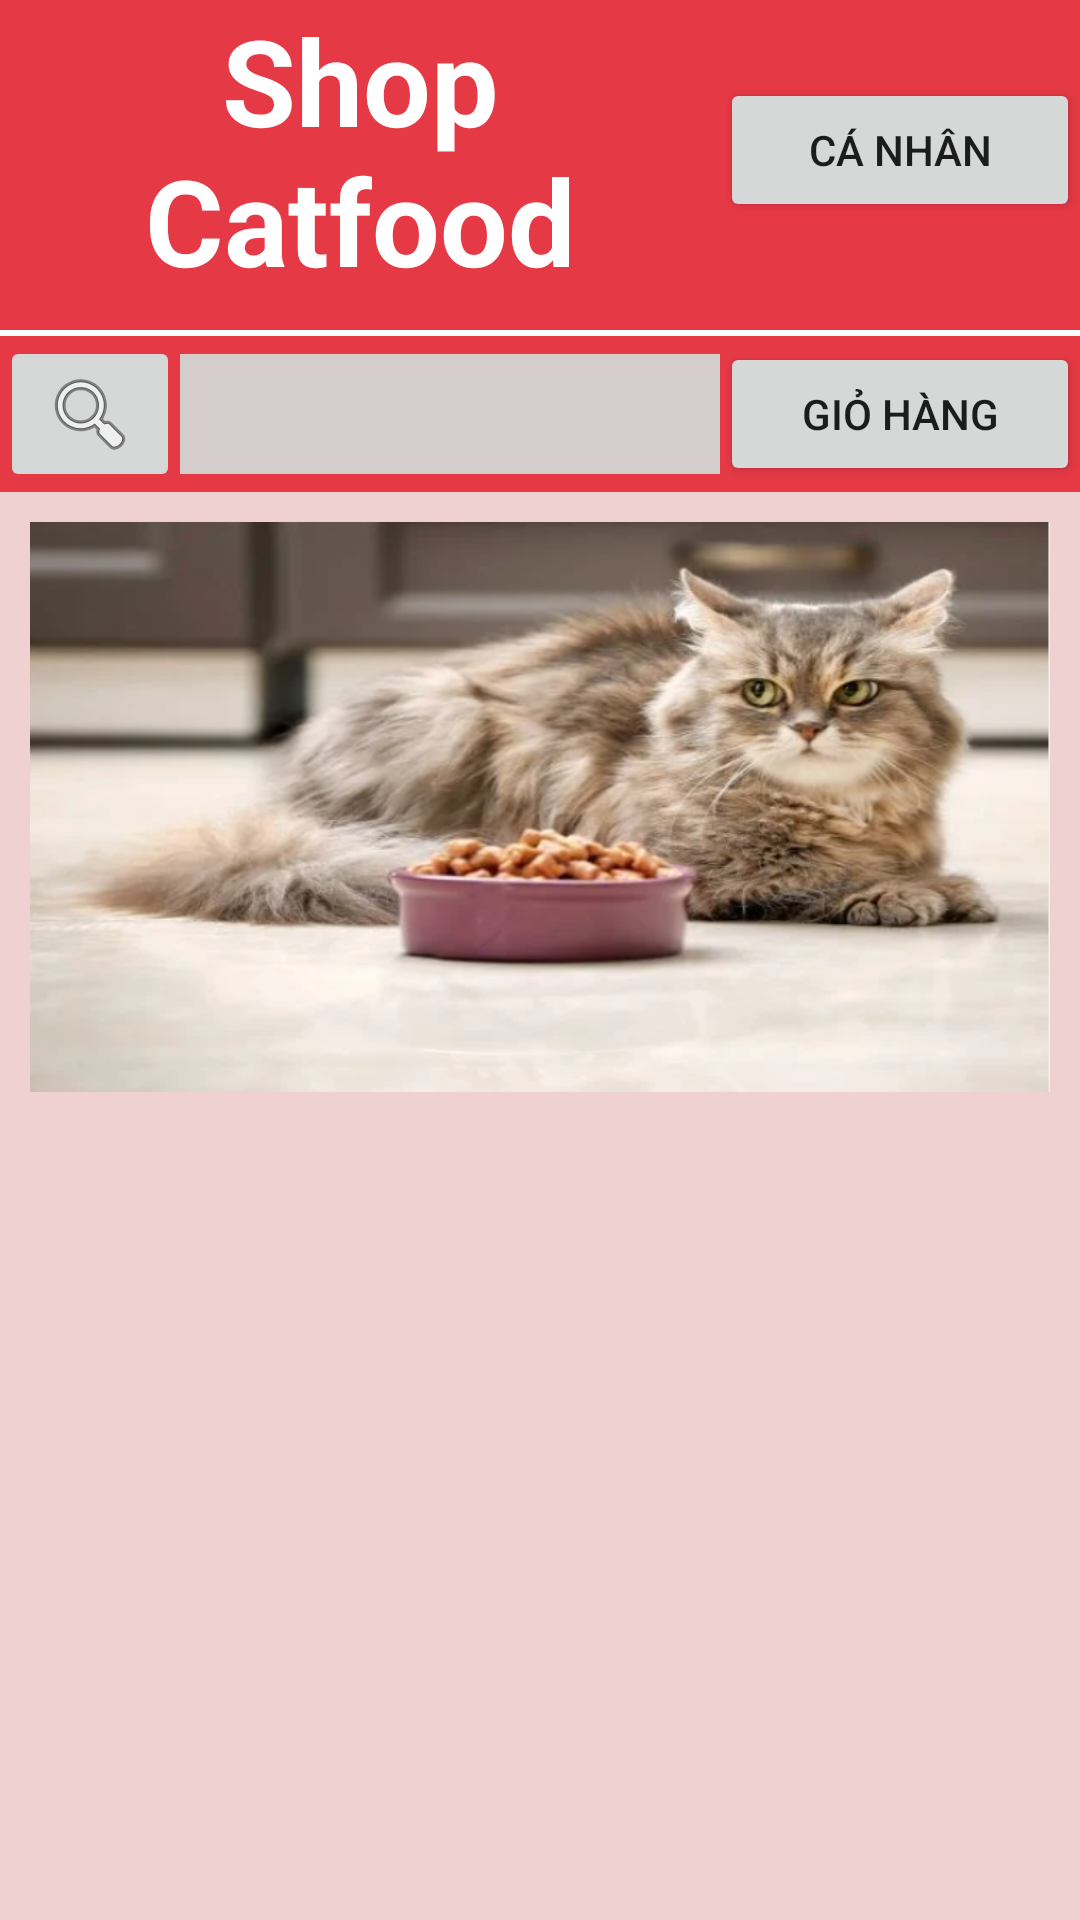

Screen size 1080 × 1920. Icon name, then its center in pixels as (x=x, y=y):
search: (x=90, y=414)
